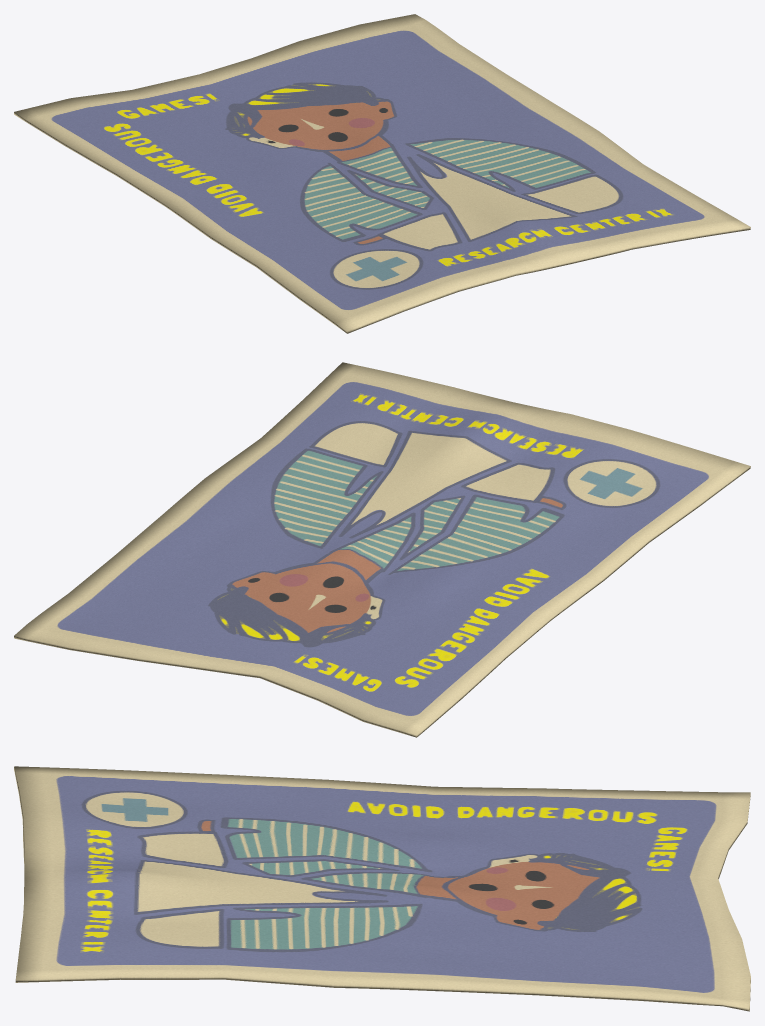
Rendered from plakat_test.glb.
3 views of the same model, one above another, from view 1: azimuth 30°, elevation 25°; view 2: azimuth 150°, elevation 25°; view 3: azimuth 270°, elevation 25° (orthographic). The views are drawn at different scales.
Parts seen in each view (by area): view 1: plakat1; view 2: plakat1; view 3: plakat1.
Boxes of the visible parts, left/top/right/bottom form: plakat1: left=14, top=14, right=750, bottom=333; plakat1: left=14, top=362, right=750, bottom=737; plakat1: left=14, top=766, right=750, bottom=1011.
Size of the model in its own units: 4.44 by 0.4298 by 6.31.
Materials: 1 (1 with a texture image).
